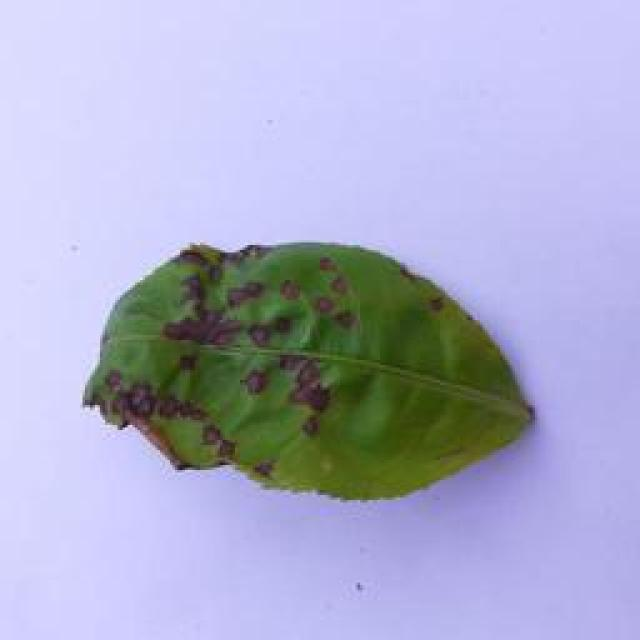Helopeltis: (79, 235, 546, 513)
